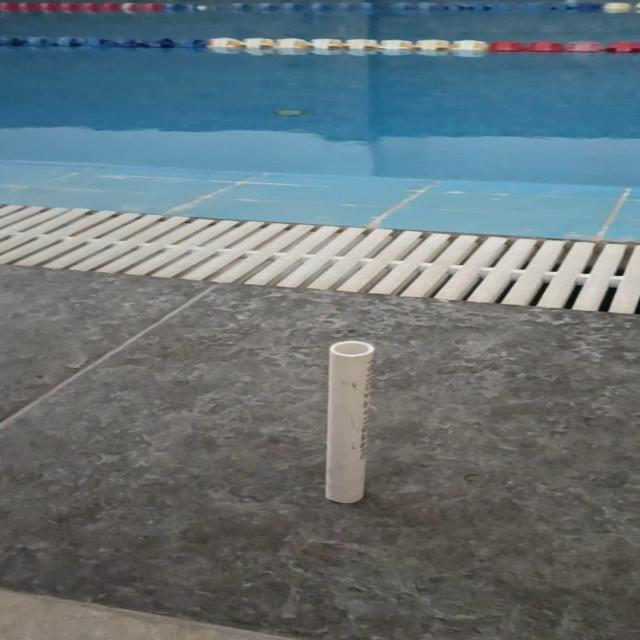Cube: (323, 340, 374, 503)
